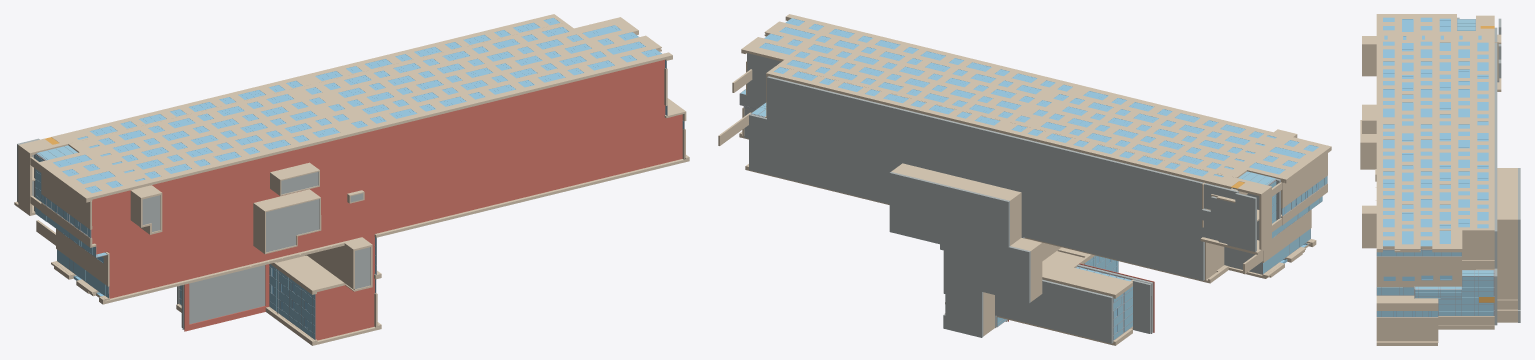
File: model_ifc_frontenac.glb
3 views of the same model, side by side, from view 1: azimuth 30°, elevation 25°; view 2: azimuth 150°, elevation 25°; view 3: azimuth 270°, elevation 25° (orthographic). The views are drawn at different scales.
Visible parts, largest first — view 1: IfcRoof, IfcWall, IfcWindow, IfcSlab, IfcPlate, IfcMember; view 2: IfcSlab, IfcWall, IfcWindow, IfcPlate, IfcMember; view 3: IfcWall, IfcWindow, IfcPlate, IfcSlab, IfcMember, IfcDoor.
Part boxes in pixels (x1,y1,x2,y2): IfcRoof: [91, 59, 682, 340]; IfcWall: [14, 14, 689, 345]; IfcWindow: [44, 18, 661, 327]; IfcSlab: [17, 138, 370, 329]; IfcPlate: [35, 60, 683, 339]; IfcMember: [35, 60, 684, 340]; IfcSlab: [740, 53, 1284, 343]; IfcWall: [718, 14, 1331, 345]; IfcWindow: [759, 18, 1318, 332]; IfcPlate: [740, 89, 1327, 339]; IfcMember: [739, 55, 1327, 340]; IfcWall: [1360, 14, 1517, 345]; IfcWindow: [1383, 17, 1488, 316]; IfcPlate: [1377, 19, 1493, 316]; IfcSlab: [1414, 17, 1520, 325]; IfcMember: [1376, 19, 1494, 317]; IfcDoor: [1479, 26, 1494, 302].
Bounding box in the file's own units: 86.68 × 29.79 × 24.25.
